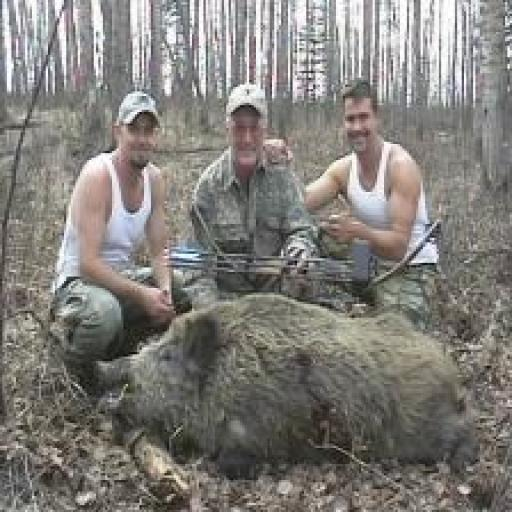Pig: (96, 292, 475, 479)
